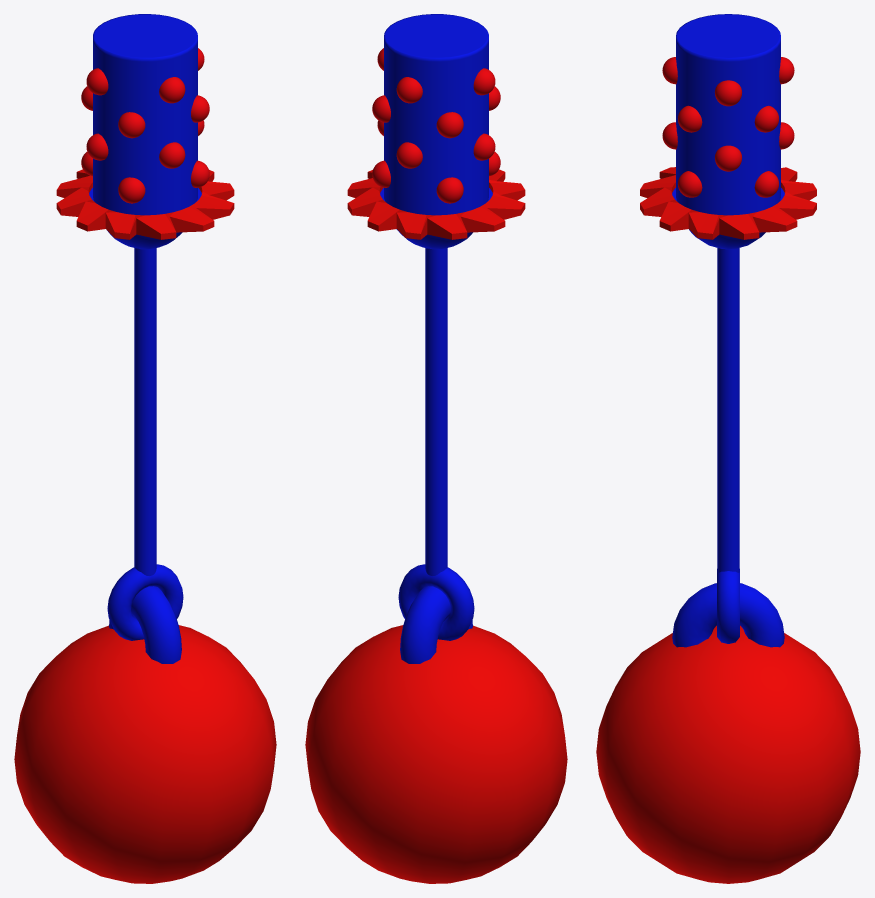
Rendered from Obstacles.fbx.
The picture shows the model from 3 angles, left to right: view 1: azimuth 30°, elevation 25°; view 2: azimuth 150°, elevation 25°; view 3: azimuth 270°, elevation 25°; orthographic projection.
Parts seen in each view (by area): view 1: Sphere, Cylinder.011, Cylinder.001; view 2: Sphere, Cylinder.011, Cylinder.001; view 3: Sphere, Cylinder.011, Cylinder.001.
Boxes of the visible parts, bbox=[...] form: Sphere: bbox=[14, 230, 276, 883]; Cylinder.011: bbox=[81, 14, 209, 215]; Cylinder.001: bbox=[56, 169, 234, 239]; Sphere: bbox=[305, 229, 567, 883]; Cylinder.011: bbox=[372, 14, 500, 215]; Cylinder.001: bbox=[347, 169, 525, 239]; Sphere: bbox=[596, 229, 860, 883]; Cylinder.011: bbox=[662, 14, 794, 215]; Cylinder.001: bbox=[640, 167, 816, 239].
Size of the model in its own units: 1.47 by 5.12 by 1.47.
